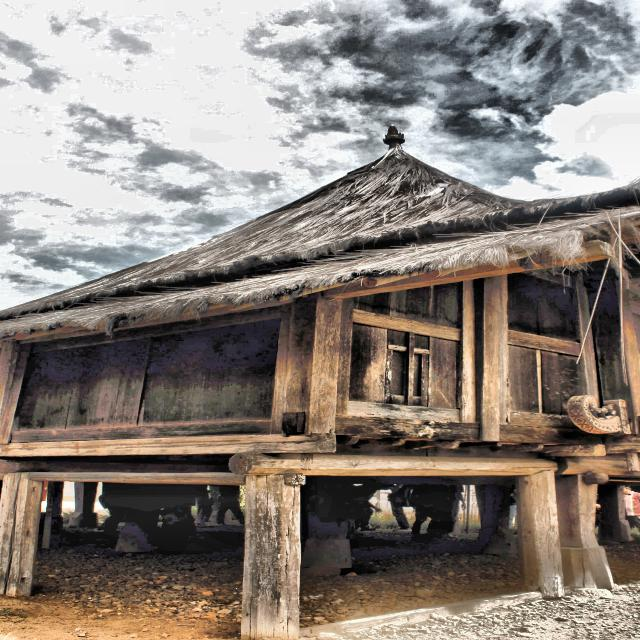column: (240, 476, 300, 639), (556, 475, 614, 589), (519, 474, 565, 599), (1, 473, 44, 597)
roof: (1, 125, 639, 335)
wall: (3, 255, 638, 447)
window: (386, 345, 430, 406)
